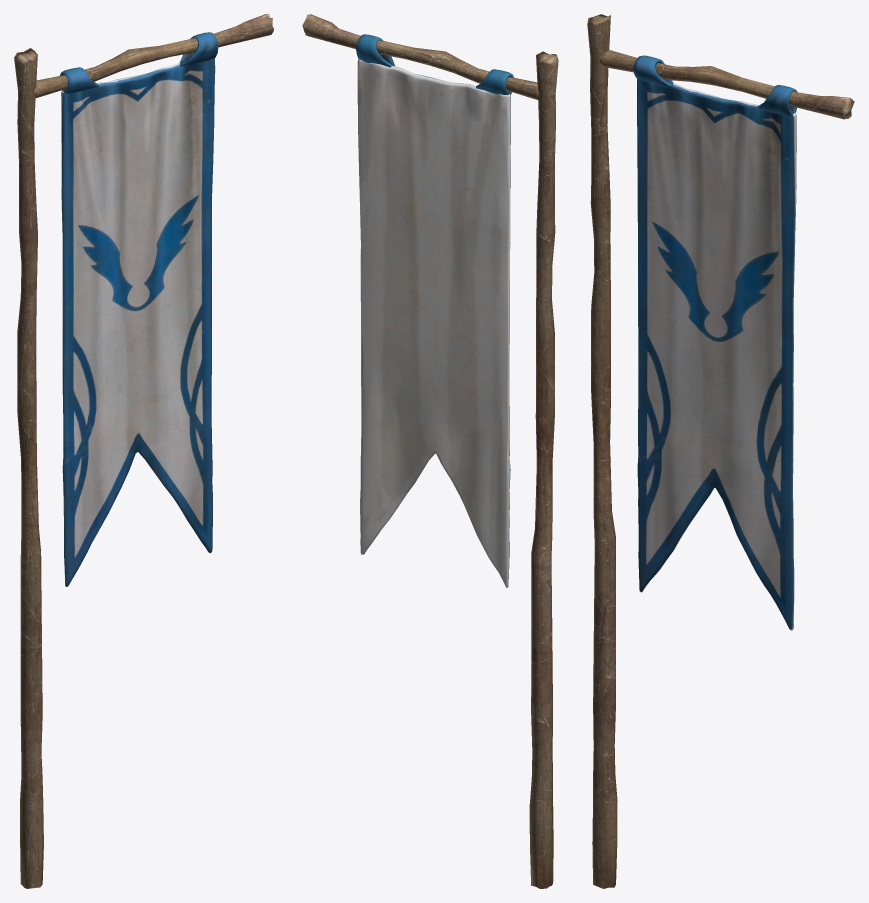
3 views of the same model, side by side, from view 1: azimuth 30°, elevation 25°; view 2: azimuth 150°, elevation 25°; view 3: azimuth 330°, elevation 25° (orthographic). The views are drawn at different scales.
Parts seen in each view (by area): view 1: SM_Single_Banner_Armadyl_03v2_LOD0; view 2: SM_Single_Banner_Armadyl_03v2_LOD0; view 3: SM_Single_Banner_Armadyl_03v2_LOD0.
Boxes of the visible parts, <box> form: SM_Single_Banner_Armadyl_03v2_LOD0: <box>14,14,273,888</box>; SM_Single_Banner_Armadyl_03v2_LOD0: <box>302,14,558,888</box>; SM_Single_Banner_Armadyl_03v2_LOD0: <box>587,14,854,888</box>.
Bounding box in the file's own units: 1.39 × 4.39 × 0.1182.
Materials: 2 (2 with a texture image).
